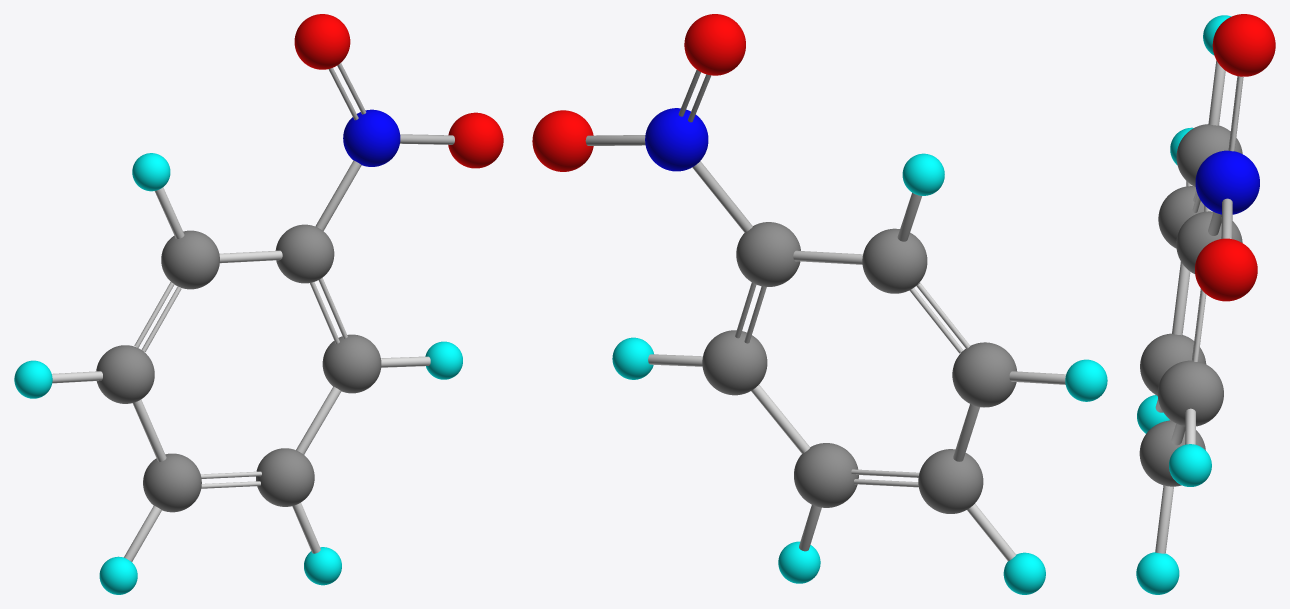
The model's file is nitrobenzene.glb.
The picture shows the model from 3 angles, left to right: view 1: azimuth 30°, elevation 25°; view 2: azimuth 150°, elevation 25°; view 3: azimuth 270°, elevation 25°; orthographic projection. The views are drawn at different scales.
Visible parts, largest first — view 1: CMAtom_1, CMAtom_4, CMAtom_0, CMAtom_3, CMAtom_5, CMAtom_2, CMAtom_13, CMAtom_11, CMAtom_12, CMAtom_10, CMAtom_7, CMAtom_8 (+6 smaller); view 2: CMAtom_0, CMAtom_5, CMAtom_4, CMAtom_2, CMAtom_1, CMAtom_3, CMAtom_13, CMAtom_11, CMAtom_12, CMAtom_10, CMAtom_7, CMAtom_8 (+6 smaller); view 3: CMAtom_4, CMAtom_13, CMAtom_11, CMAtom_12, CMAtom_1, CMAtom_3, CMAtom_0, CMAtom_2, CMAtom_5, CMAtom_6, CMAtom_9, CMBond_9_Segment_0 (+11 smaller).
Boxes of the visible parts, x1,y1,x2,y2 form: CMAtom_1: (161, 230, 219, 289); CMAtom_4: (322, 334, 381, 393); CMAtom_0: (256, 448, 314, 506); CMAtom_3: (143, 453, 201, 512); CMAtom_5: (96, 345, 154, 403); CMAtom_2: (275, 224, 334, 283); CMAtom_13: (343, 109, 400, 166); CMAtom_11: (294, 14, 350, 69); CMAtom_12: (448, 112, 503, 168); CMAtom_10: (14, 360, 52, 398); CMAtom_7: (132, 153, 170, 191); CMAtom_8: (99, 556, 137, 594); CMAtom_0: (794, 443, 858, 507); CMAtom_5: (952, 342, 1017, 407); CMAtom_4: (702, 330, 767, 395); CMAtom_2: (736, 222, 800, 286); CMAtom_1: (862, 228, 927, 293); CMAtom_3: (918, 449, 983, 513); CMAtom_13: (645, 108, 708, 171); CMAtom_11: (684, 14, 745, 75); CMAtom_12: (532, 110, 593, 171); CMAtom_10: (1065, 359, 1107, 401); CMAtom_7: (902, 153, 944, 195); CMAtom_8: (1003, 552, 1045, 594); CMAtom_4: (1157, 360, 1223, 426); CMAtom_13: (1195, 150, 1259, 214); CMAtom_11: (1212, 14, 1275, 76); CMAtom_12: (1195, 238, 1257, 301); CMAtom_1: (1176, 124, 1242, 186); CMAtom_3: (1140, 333, 1206, 395); CMAtom_0: (1139, 420, 1205, 486); CMAtom_2: (1176, 211, 1242, 273); CMAtom_5: (1158, 186, 1204, 248); CMAtom_6: (1136, 552, 1179, 594); CMAtom_9: (1169, 444, 1211, 486); CMBond_9_Segment_0: (1172, 262, 1190, 335).
Size of the model in its own units: 6.02 by 6.12 by 1.29.
